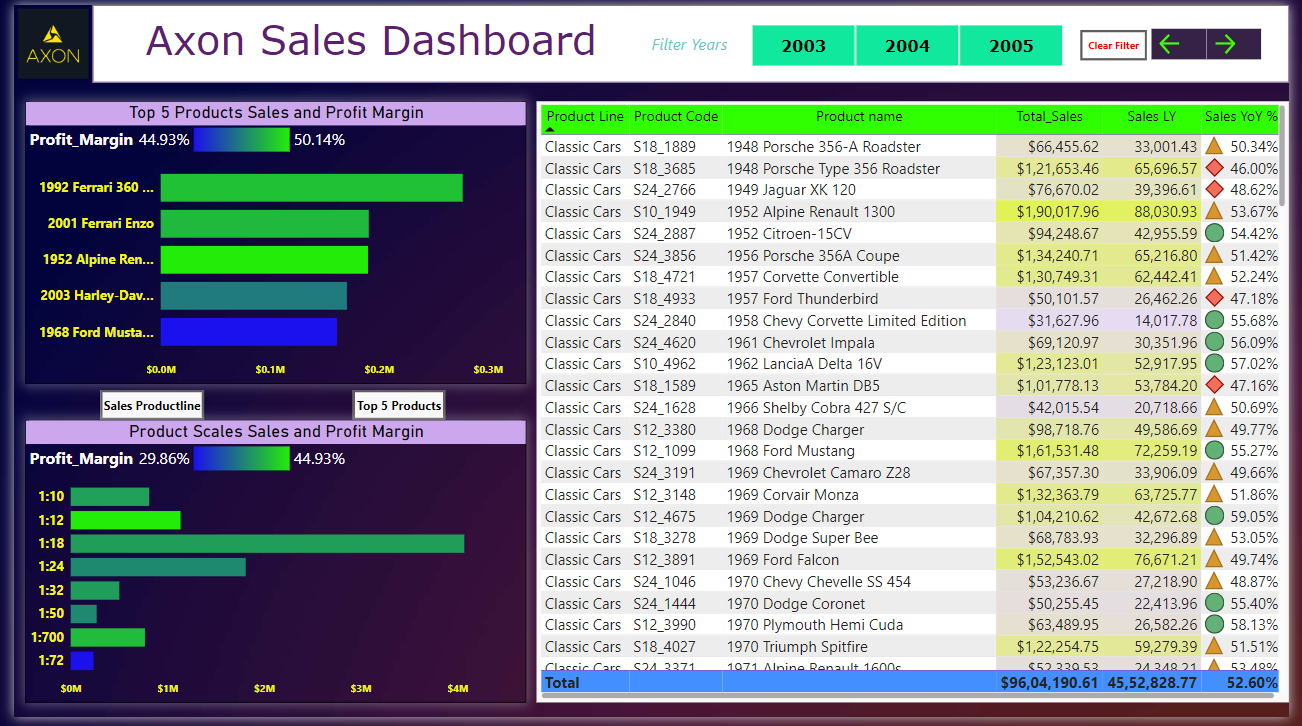

The page's visual inventory and layout, read from the dashboard file:
{"tool":"powerbi","page":{"name":"Product Sales YoY %","canvas":[1700,950],"ordinal":3},"visuals":[{"type":"tableEx","fields":{"Values":["classicmodels products.productLine","classicmodels products.productCode","classicmodels products.productName","Base_Measures.Total_Sales","Time Intelligence Calc.Sales LY","Time Intelligence Calc.Sales YoY %"]},"box":[696.7,128.3,1003.3,801.7],"z":0},{"type":"shape","box":[104.8,0,1595.2,103.2],"z":1000},{"type":"textbox","box":[114.5,8.1,722.6,79],"z":2000},{"type":"slicer","title":"Year","fields":{"Values":["DATES.Date.Variation.Date Hierarchy.Year"]},"box":[958,19.5,463.6,68.1],"z":3000},{"type":"actionButton","box":[1590.1,32.4,72.9,40.5],"z":4000},{"type":"actionButton","box":[1421.5,34,89.1,40.5],"z":5000},{"type":"textbox","box":[837,31.8,127.3,44.6],"z":6000},{"type":"actionButton","box":[1517.2,32.4,72.9,40.5],"z":7000},{"type":"image","box":[0,0,105,103.4],"z":8000},{"type":"clusteredBarChart","title":"Top 5 Products Sales and  Profit Margin","fields":{"Y":["Base_Measures.Total_Sales"],"Category":["classicmodels products.Product name"]},"box":[15,128.3,668.3,376.7],"z":10000},{"type":"actionButton","box":[451.7,513.3,123.3,40],"z":11000},{"type":"actionButton","box":[115,513.3,138.3,40],"z":12000},{"type":"clusteredBarChart","title":"Product Scales Sales and  Profit Margin","fields":{"Y":["Base_Measures.Total_Sales"],"Category":["classicmodels products.Product Scale"]},"box":[15,553.3,668.3,376.7],"z":13000}]}

Visuals, with their boxes in screenshot pixels (x1, y1, x2, y2), scaled from the page's 1700x950 canvas onto the 1302x726 screenshot:
tableEx - classicmodels products.productLine x classicmodels products.productCode: locate(534, 98, 1301, 711)
shape: locate(80, 0, 1301, 79)
textbox: locate(88, 6, 641, 67)
"Year" slicer: locate(734, 15, 1089, 67)
actionButton: locate(1218, 25, 1274, 56)
actionButton: locate(1089, 26, 1157, 57)
textbox: locate(641, 24, 739, 58)
actionButton: locate(1162, 25, 1218, 56)
image: locate(0, 0, 80, 79)
"Top 5 Products Sales and  Profit Margin" clusteredBarChart: locate(11, 98, 523, 386)
actionButton: locate(346, 392, 440, 423)
actionButton: locate(88, 392, 194, 423)
"Product Scales Sales and  Profit Margin" clusteredBarChart: locate(11, 423, 523, 711)
